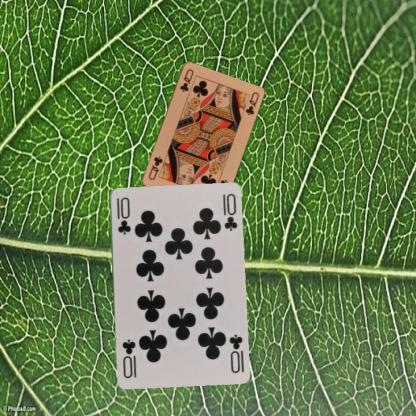10c: (114, 194, 132, 236), (226, 332, 244, 374)
Qc: (177, 66, 195, 93)
